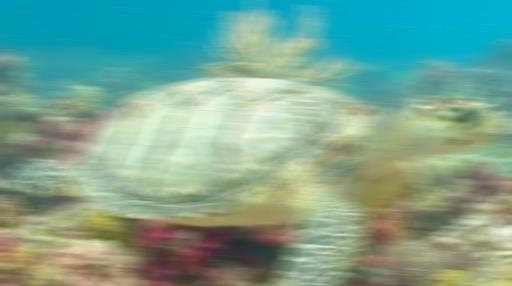Fish: (7, 78, 506, 285)
